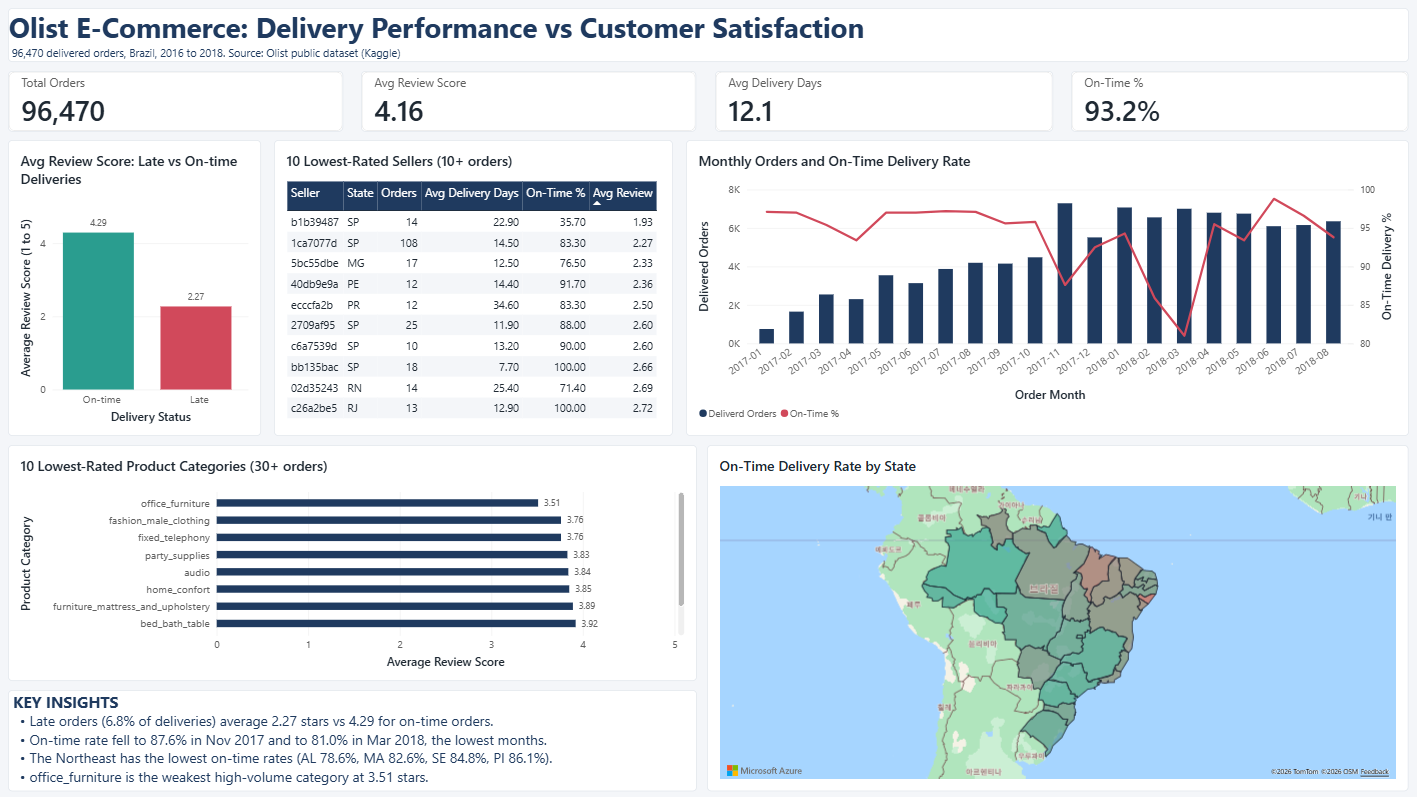

The page's visual inventory and layout, read from the dashboard file:
{"tool":"powerbi","page":{"name":"Delivery Performance","canvas":[1920,1080],"ordinal":0},"visuals":[{"type":"cardVisual","fields":{"Data":["v_order_delivery_reviews.Total Orders"]},"box":[13.3,96.7,453.4,82.4],"z":0},{"type":"cardVisual","fields":{"Data":["v_order_delivery_reviews.Avg Review Score"]},"box":[491.1,97.1,453.4,82.4],"z":1000},{"type":"cardVisual","fields":{"Data":["v_order_delivery_reviews.Avg Delivery Days"]},"box":[968.9,97.1,457.4,82.4],"z":2000},{"type":"cardVisual","fields":{"Data":["v_order_delivery_reviews.On-Time %"]},"box":[1450.6,97.1,456.1,82.4],"z":3000},{"type":"clusteredColumnChart","title":"Avg Review Score: Late vs On-time Deliveries","fields":{"Category":["v_order_delivery_reviews.delivery_status"],"Y":["v_order_delivery_reviews.Avg Review Score"]},"box":[13.3,190.8,341.7,400.2],"z":4000},{"type":"lineClusteredColumnComboChart","title":"Monthly Orders and On-Time Delivery Rate","fields":{"Category":["v_monthly_delivery_trend.order_month"],"Y":["Avg(v_monthly_delivery_trend.total_orders)"],"Y2":["Avg(v_monthly_delivery_trend.on_time_pct)"]},"box":[929.4,190.1,977.3,400.2],"z":5000},{"type":"azureMap","title":"On-Time Delivery Rate by State","fields":{"Category":["v_state_performance.State Location"]},"box":[958.7,602.3,948,468],"z":6000},{"type":"clusteredBarChart","title":"10 Lowest-Rated Product Categories (30+ orders)","fields":{"Category":["v_category_performance.category"],"Y":["Avg(v_category_performance.avg_review_score)"]},"box":[13.3,602.7,930.7,319.1],"z":7000},{"type":"tableEx","title":"10 Lowest-Rated Sellers (10+ orders)","fields":{"Values":["v_seller_performance.Seller","v_seller_performance.seller_state","v_seller_performance.total_orders","v_seller_performance.avg_delivery_days","v_seller_performance.on_time_pct","v_seller_performance.avg_review_score"]},"box":[373,190.1,538.5,400.2],"z":8000},{"type":"textbox","box":[13.3,12,1893.4,73.1],"z":9000},{"type":"textbox","box":[13.3,933.4,930.7,137],"z":10000},{"type":"textbox","box":[1414.5,1060.2,505.8,19.8],"z":11000}]}

Visuals, with their boxes in screenshot pixels (x1, y1, x2, y2), scaled from the page's 1920x1080 canvas onto the 1417x797 screenshot:
cardVisual - v_order_delivery_reviews.Total Orders: Rect(10, 71, 344, 132)
cardVisual - v_order_delivery_reviews.Avg Review Score: Rect(362, 72, 697, 132)
cardVisual - v_order_delivery_reviews.Avg Delivery Days: Rect(715, 72, 1053, 132)
cardVisual - v_order_delivery_reviews.On-Time %: Rect(1071, 72, 1407, 132)
"Avg Review Score: Late vs On-time Deliveries" clusteredColumnChart: Rect(10, 141, 262, 436)
"Monthly Orders and On-Time Delivery Rate" lineClusteredColumnComboChart: Rect(686, 140, 1407, 436)
"On-Time Delivery Rate by State" azureMap: Rect(708, 444, 1407, 790)
"10 Lowest-Rated Product Categories (30+ orders)" clusteredBarChart: Rect(10, 445, 697, 680)
"10 Lowest-Rated Sellers (10+ orders)" tableEx: Rect(275, 140, 673, 436)
textbox: Rect(10, 9, 1407, 63)
textbox: Rect(10, 689, 697, 790)
textbox: Rect(1044, 782, 1416, 796)
